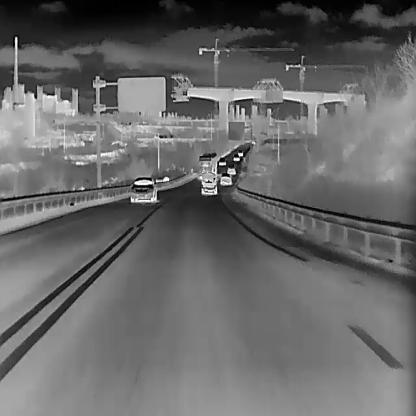car: (129, 176, 157, 202), (199, 152, 216, 180), (202, 172, 217, 195), (220, 173, 231, 186), (227, 164, 235, 174), (219, 156, 225, 165), (237, 149, 243, 157), (233, 154, 239, 160)
